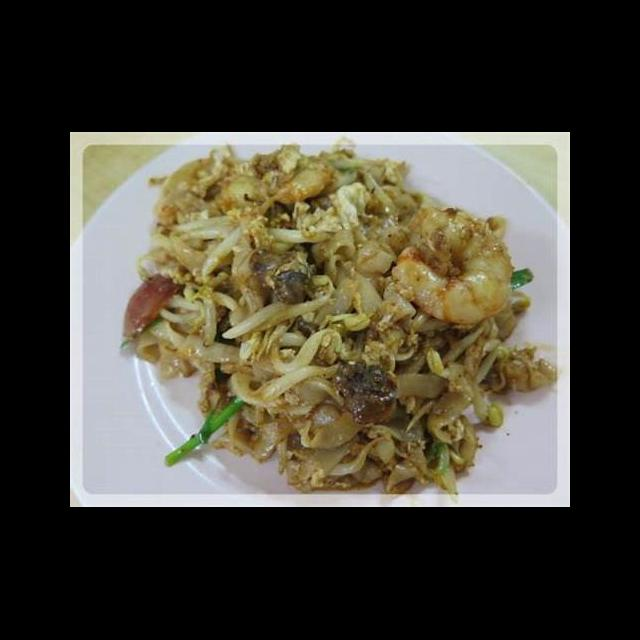food_waste: (196, 202, 490, 406)
